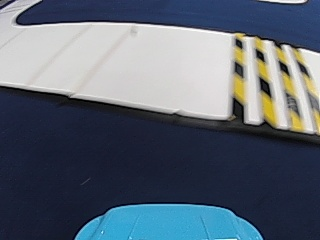bump: (232, 42, 314, 123)
